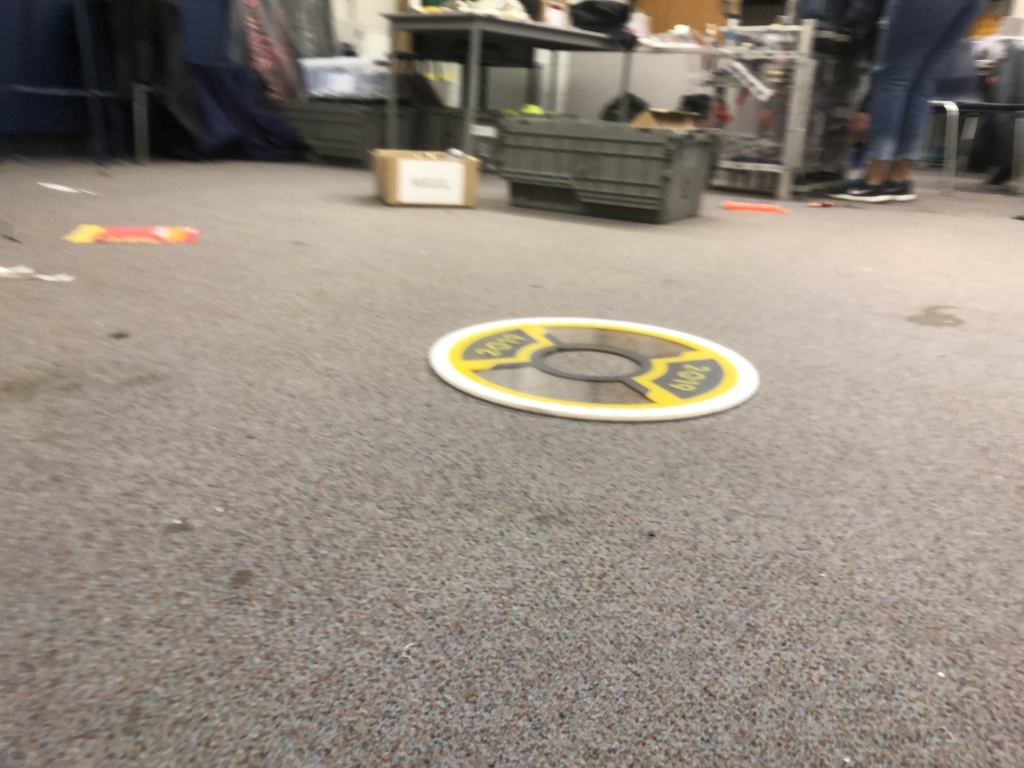hatch_panel: (422, 295, 771, 428)
